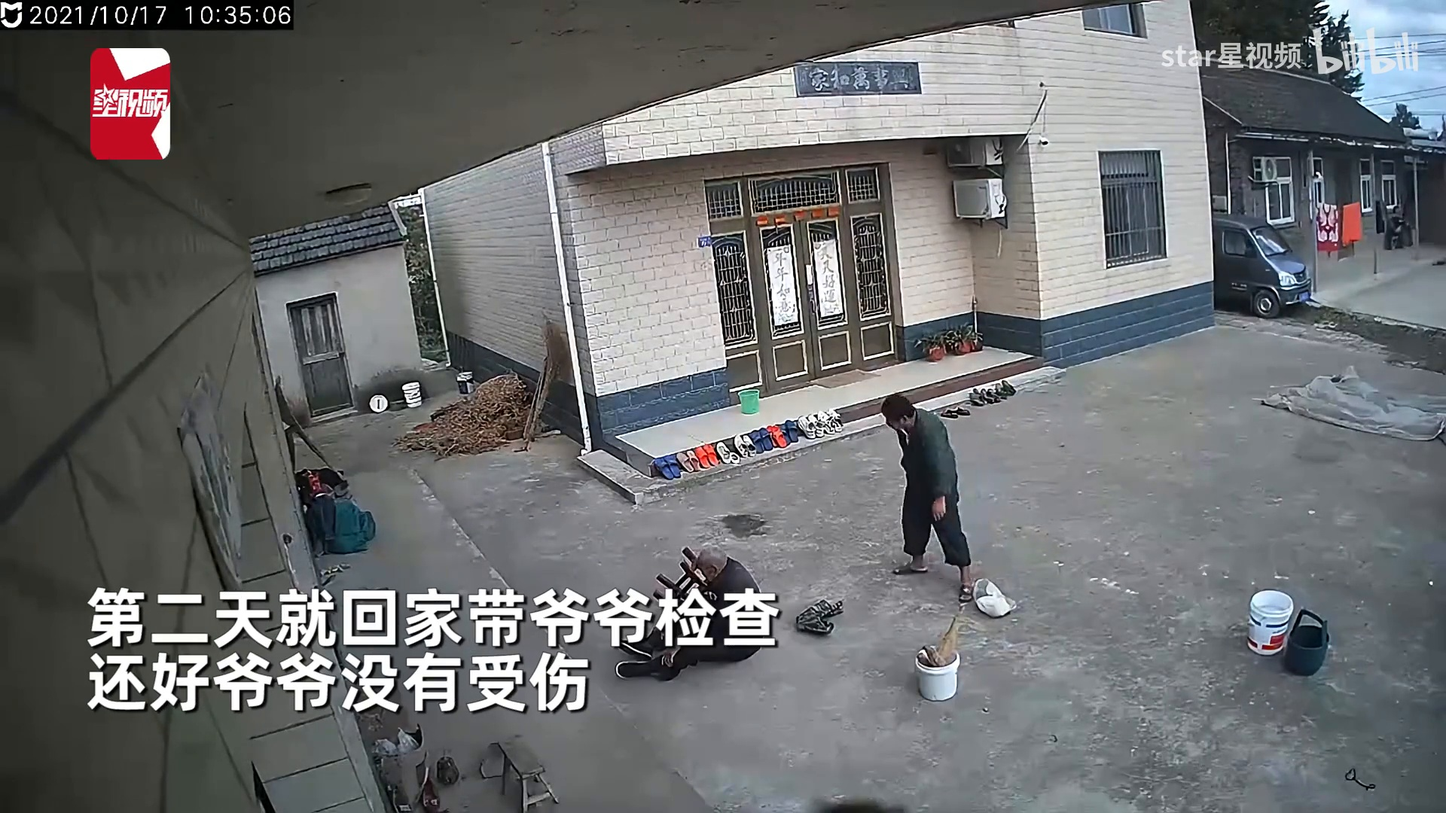half_up: (618, 541, 776, 684)
stand: (880, 392, 981, 603)
